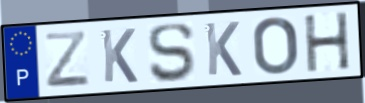H: (301, 10, 353, 75)
K: (203, 20, 244, 78), (99, 27, 140, 85)
O: (251, 15, 300, 77)
S: (146, 21, 196, 85)
Z: (42, 29, 93, 90)
